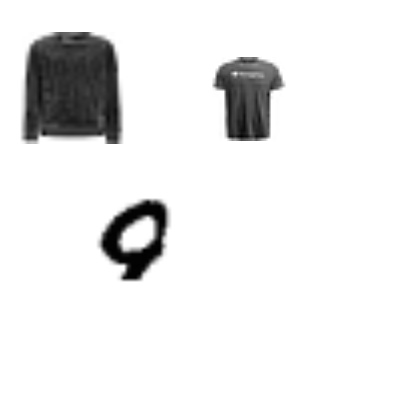9: (78, 180, 190, 292)
Pullover: (14, 32, 126, 144)
T-shirt/top: (207, 57, 291, 141)
